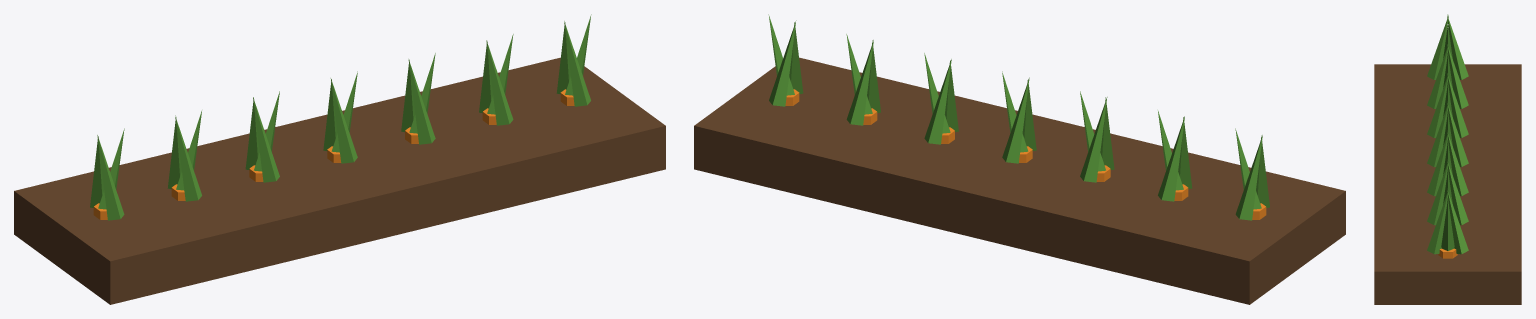
The model's file is crop_row_carrots.glb.
The picture shows the model from 3 angles, left to right: view 1: azimuth 30°, elevation 25°; view 2: azimuth 150°, elevation 25°; view 3: azimuth 270°, elevation 25°; orthographic projection. The views are drawn at different scales.
Visible parts, largest first — view 1: crop_row_carrots; view 2: crop_row_carrots; view 3: crop_row_carrots.
Part boxes in pixels (left/top/right/bottom): crop_row_carrots: left=14, top=14, right=665, bottom=304; crop_row_carrots: left=694, top=14, right=1345, bottom=304; crop_row_carrots: left=1374, top=14, right=1521, bottom=304.
Size of the model in its own units: 2 by 0.4357 by 0.6.
